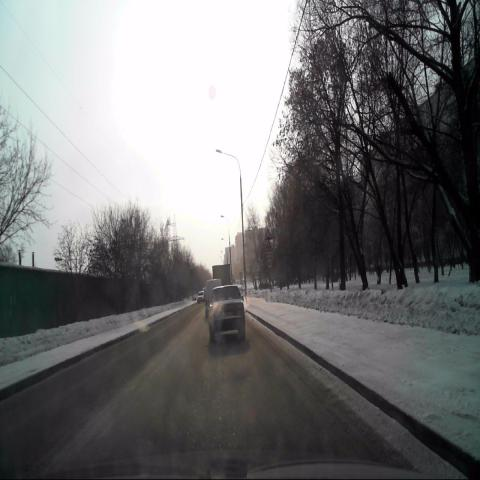1_17: (265, 228, 272, 240)
1_23: (265, 241, 273, 252)
3_24: (267, 257, 273, 268)
